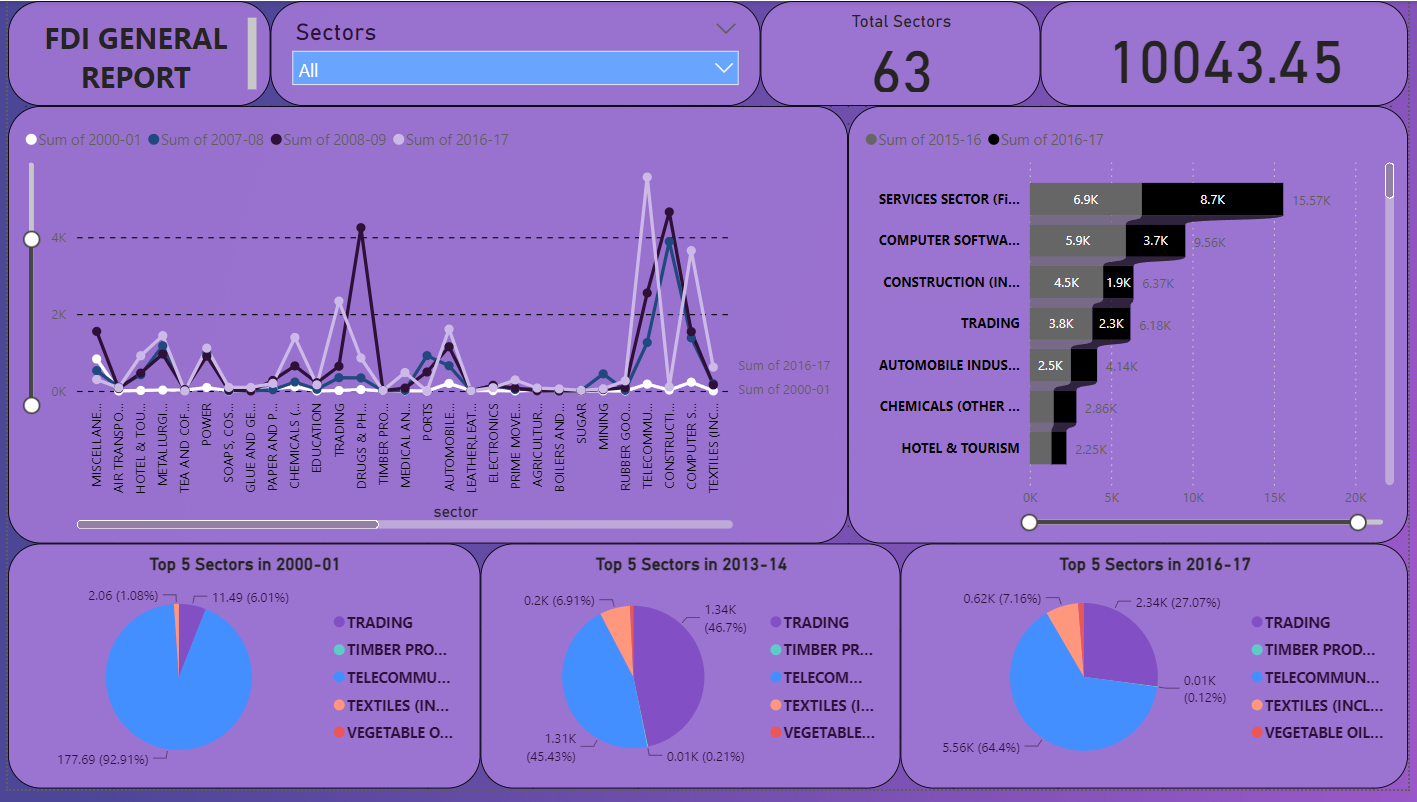

The page's visual inventory and layout, read from the dashboard file:
{"tool":"powerbi","page":{"name":"FDI GENERAL REPORT","canvas":[1280,720],"ordinal":0},"visuals":[{"type":"slicer","fields":{"Values":["public fdi_tables.sector","public fdi_tables.Sector-wise revenue"]},"box":[240,0,448,96],"z":0},{"type":"textbox","box":[0,0,240,96],"z":1000},{"type":"barChart","fields":{"Category":["public fdi_tables.sector"],"Y":["Sum(public fdi_tables.2015-16)","Sum(public fdi_tables.2016-17)"]},"box":[768,96,512,400],"z":2000},{"type":"lineChart","fields":{"Y":["Sum(public fdi_tables.2000-01)","Sum(public fdi_tables.2007-08)","Sum(public fdi_tables.2008-09)","Sum(public fdi_tables.2016-17)"],"Category":["public fdi_tables.sector"]},"box":[0,96,768,400],"z":3000},{"type":"card","title":"Total Sectors","fields":{"Values":["CountNonNull(public fdi_tables.Sector-wise revenue)"]},"box":[688,0,256,96],"z":4000},{"type":"pieChart","title":"Top 5 Sectors in 2016-17","fields":{"Category":["public fdi_tables.sector"],"Y":["Sum(public fdi_tables.2016-17)"]},"box":[816,496,464,224],"z":5000},{"type":"pieChart","title":"Top 5 Sectors in 2000-01","fields":{"Category":["public fdi_tables.sector"],"Y":["Sum(public fdi_tables.2000-01)"]},"box":[0,496,432,224],"z":6000},{"type":"pieChart","title":"Top 5 Sectors in 2013-14","fields":{"Category":["public fdi_tables.sector"],"Y":["Sum(public fdi_tables.2013-14)"]},"box":[432,496,384,224],"z":7000},{"type":"card","fields":{"Values":["Min(public fdi_tables.Sector-wise revenue)"]},"box":[944,0,336,96],"z":8000}]}

Visuals, with their boxes in screenshot pixels (x1, y1, x2, y2), scaled from the page's 1280x720 canvas onto the 1417x802 screenshot:
slicer - public fdi_tables.sector x public fdi_tables.Sector-wise revenue: region(266, 0, 762, 107)
textbox: region(0, 0, 266, 107)
barChart - public fdi_tables.sector x Sum(public fdi_tables.2015-16): region(850, 107, 1416, 552)
lineChart - Sum(public fdi_tables.2000-01) x Sum(public fdi_tables.2007-08): region(0, 107, 850, 552)
"Total Sectors" card: region(762, 0, 1045, 107)
"Top 5 Sectors in 2016-17" pieChart: region(903, 552, 1416, 801)
"Top 5 Sectors in 2000-01" pieChart: region(0, 552, 478, 801)
"Top 5 Sectors in 2013-14" pieChart: region(478, 552, 903, 801)
card - Min(public fdi_tables.Sector-wise revenue): region(1045, 0, 1416, 107)
